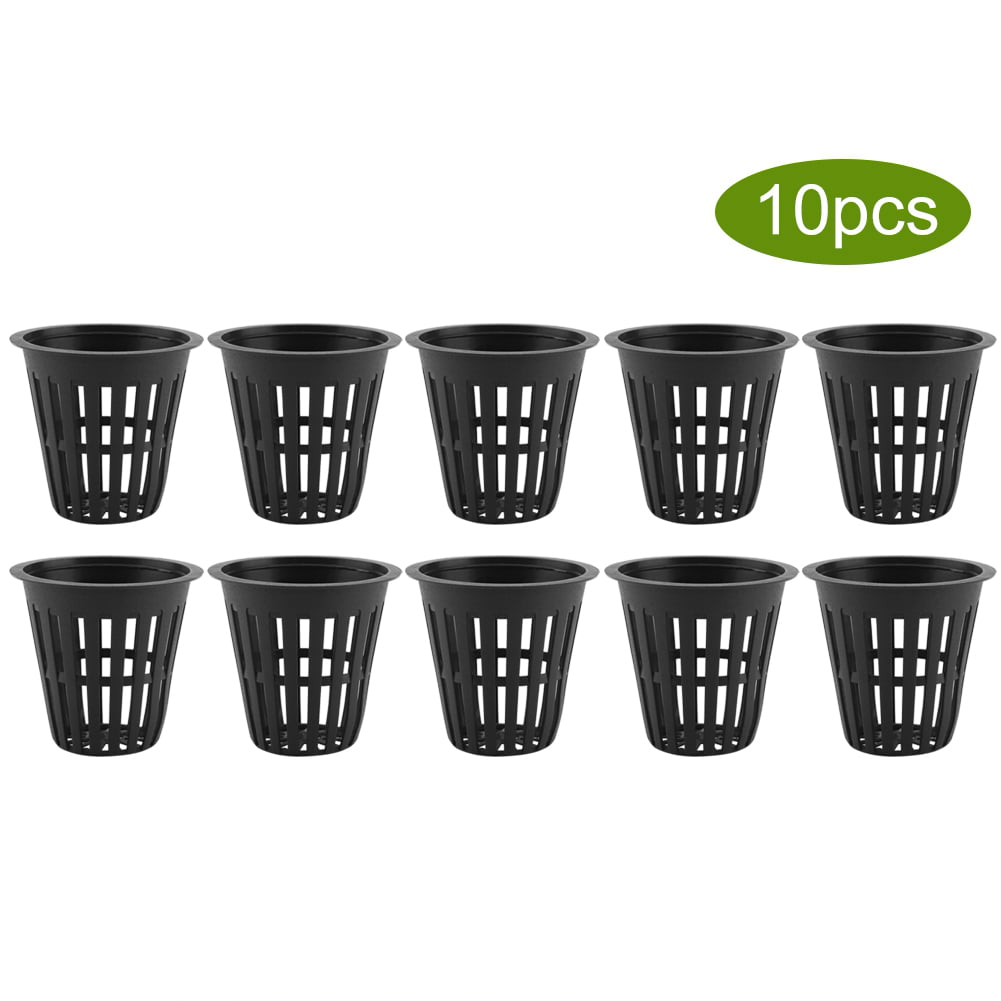basket: (212, 542, 402, 782), (210, 302, 406, 531), (2, 545, 199, 772), (609, 538, 800, 772), (412, 541, 606, 771), (809, 540, 998, 776), (417, 297, 596, 533), (611, 289, 792, 519), (10, 313, 200, 531), (814, 294, 976, 526)
